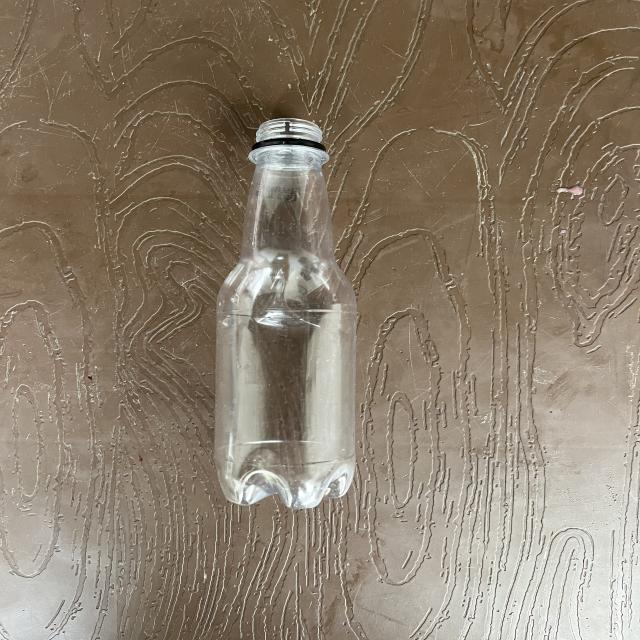PET_With_Cap: (202, 110, 375, 513)
